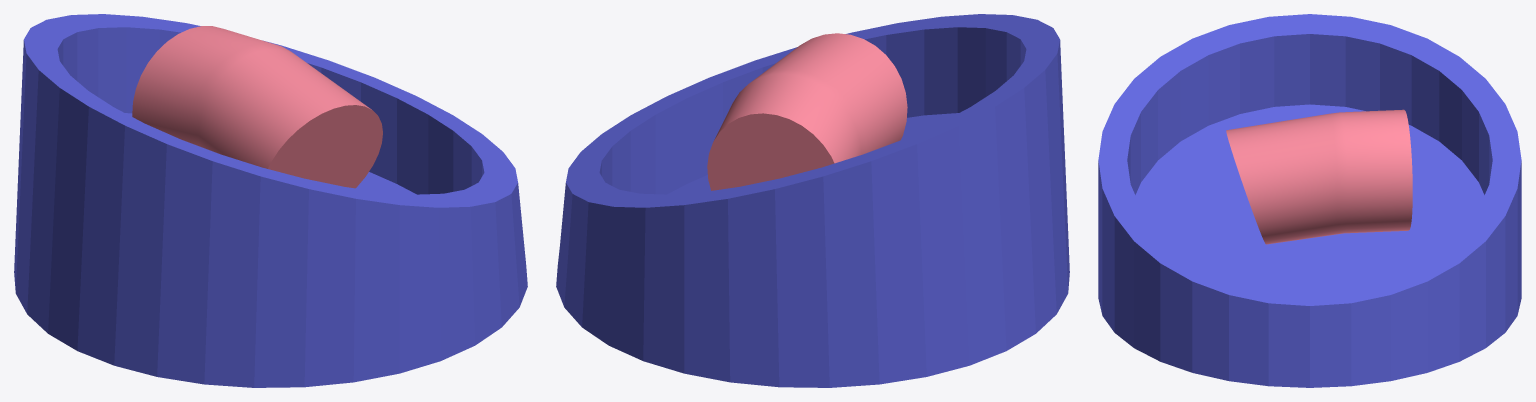
File: pote_racao.fbx
3 renders of one model, left to right at view 1: azimuth 30°, elevation 25°; view 2: azimuth 150°, elevation 25°; view 3: azimuth 270°, elevation 25°, orthographic. The views are drawn at different scales.
Parts seen in each view (by area): view 1: Cylinder.004, Cylinder.003; view 2: Cylinder.004, Cylinder.003; view 3: Cylinder.004, Cylinder.003.
Boxes of the visible parts, left/top/right/bottom form: Cylinder.004: left=14, top=14, right=527, bottom=387; Cylinder.003: left=132, top=26, right=382, bottom=188; Cylinder.004: left=556, top=14, right=1069, bottom=387; Cylinder.003: left=707, top=33, right=907, bottom=190; Cylinder.004: left=1098, top=14, right=1521, bottom=387; Cylinder.003: left=1226, top=109, right=1412, bottom=244.
Size of the model in its own units: 2 by 1.04 by 2.
